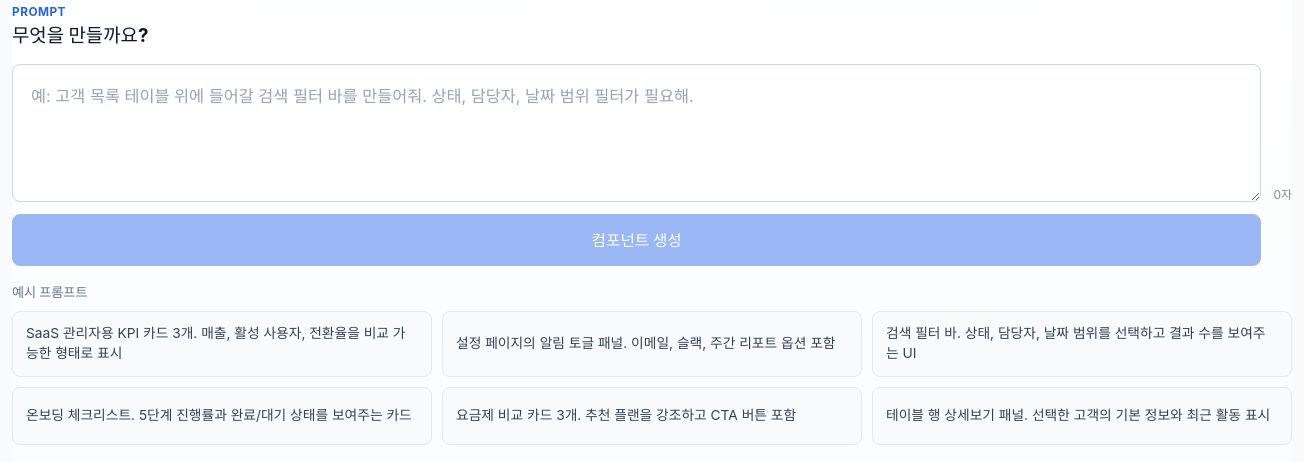
Test: PromptInput 컴포넌트 › useState 훅 - prompt 상태 관리 › 문자 수가 올바르게 표시되어야 한다
Type "테스트" into the text box with placeholder "예: 고객 목록 테이블 위에 들어갈 검색 필터 바를 만들어줘. 상태, 담당자, 날짜 범위 필터가 필요해." at [637, 133], box [12,64,1261,202]
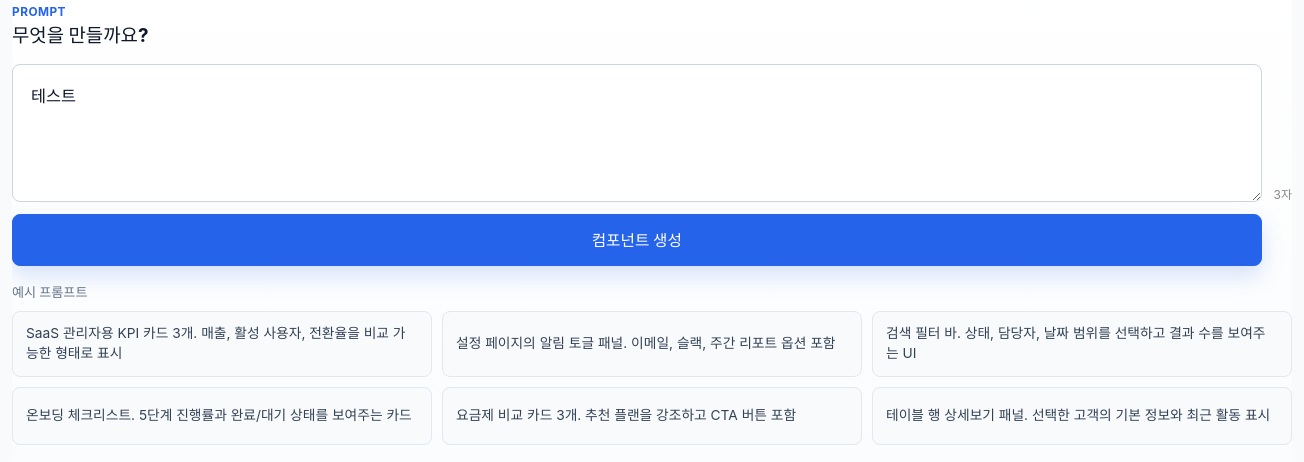
expect the text "3자" is shown: met, box [1274,185,1292,202]
